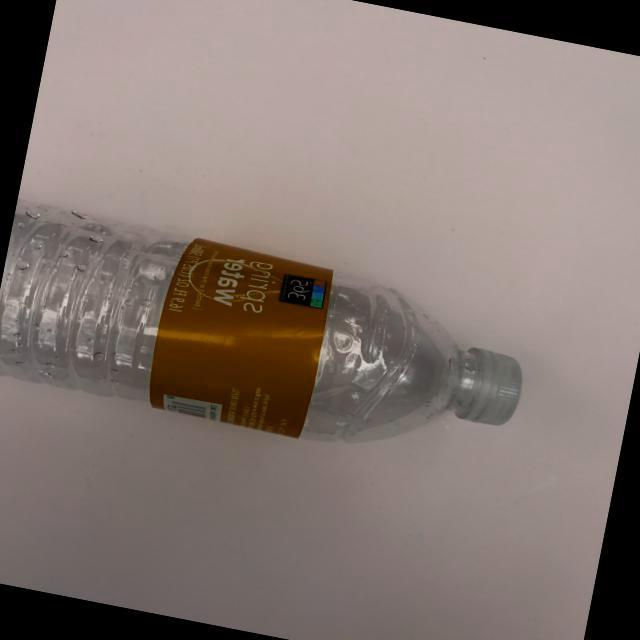plastic: (0, 186, 567, 516)
